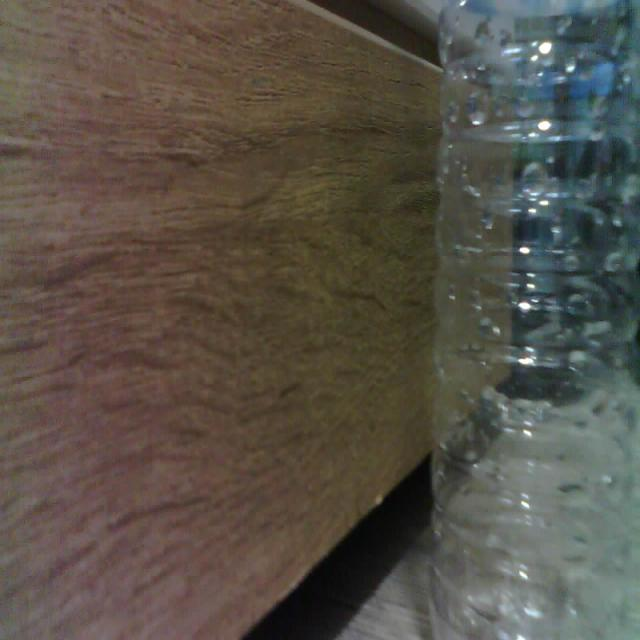bottle: (429, 0, 640, 639)
